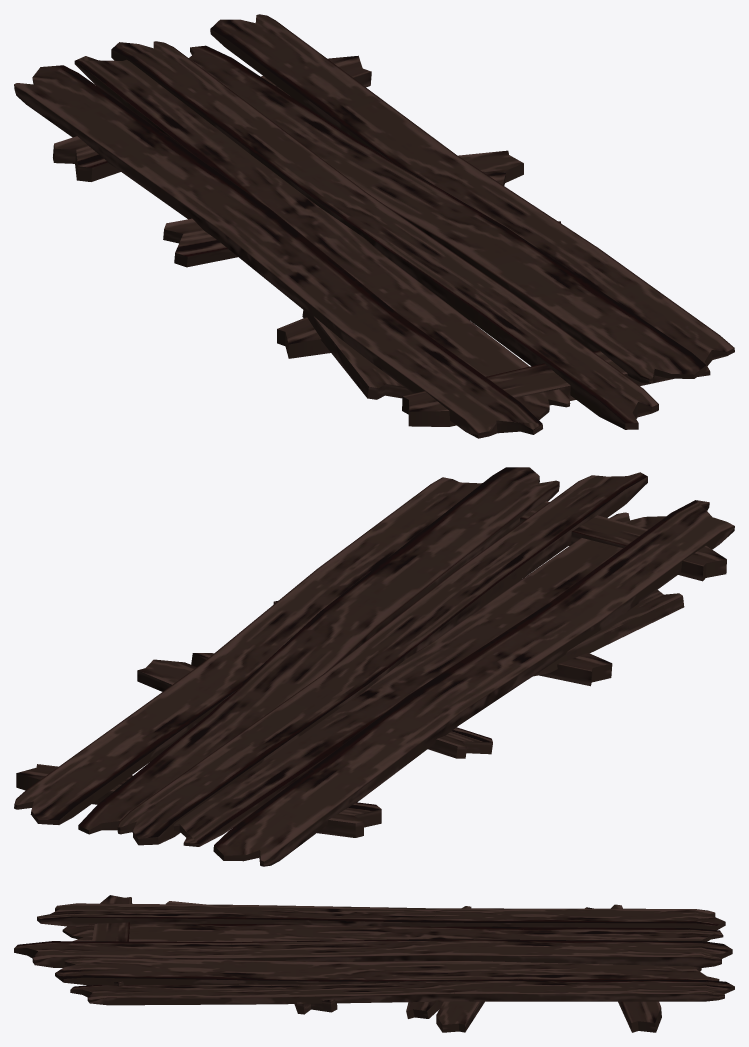
Rendered from SM_A_BoardPath_Long_01.fbx.
3 renders of one model, top to bottom at view 1: azimuth 30°, elevation 25°; view 2: azimuth 150°, elevation 25°; view 3: azimuth 270°, elevation 25°, orthographic. The views are drawn at different scales.
Visible parts, largest first — view 1: SM_A_BoardPath_Long_01; view 2: SM_A_BoardPath_Long_01; view 3: SM_A_BoardPath_Long_01.
Boxes of the visible parts, x1=… form: SM_A_BoardPath_Long_01: x1=14, y1=14, x2=734, y2=438; SM_A_BoardPath_Long_01: x1=14, y1=467, x2=734, y2=866; SM_A_BoardPath_Long_01: x1=14, y1=895, x2=734, y2=1032.
Bounding box in the file's own units: 161 × 408 × 19.04.
